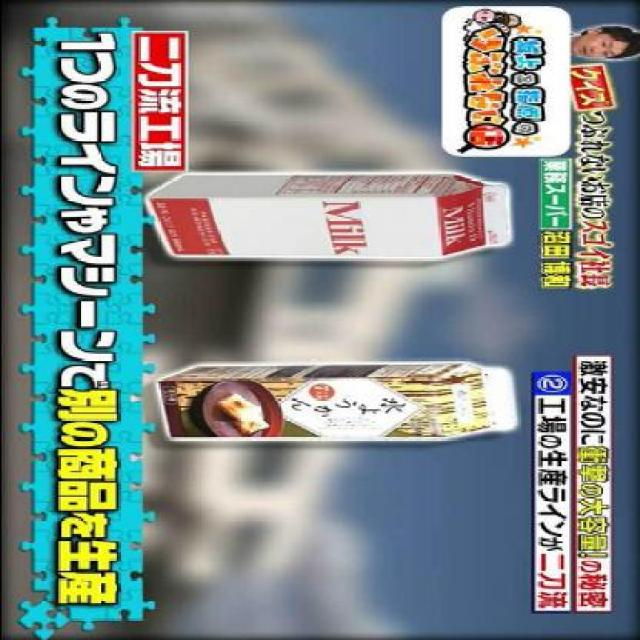non_white_jug: (144, 168, 514, 268), (148, 358, 520, 451)
